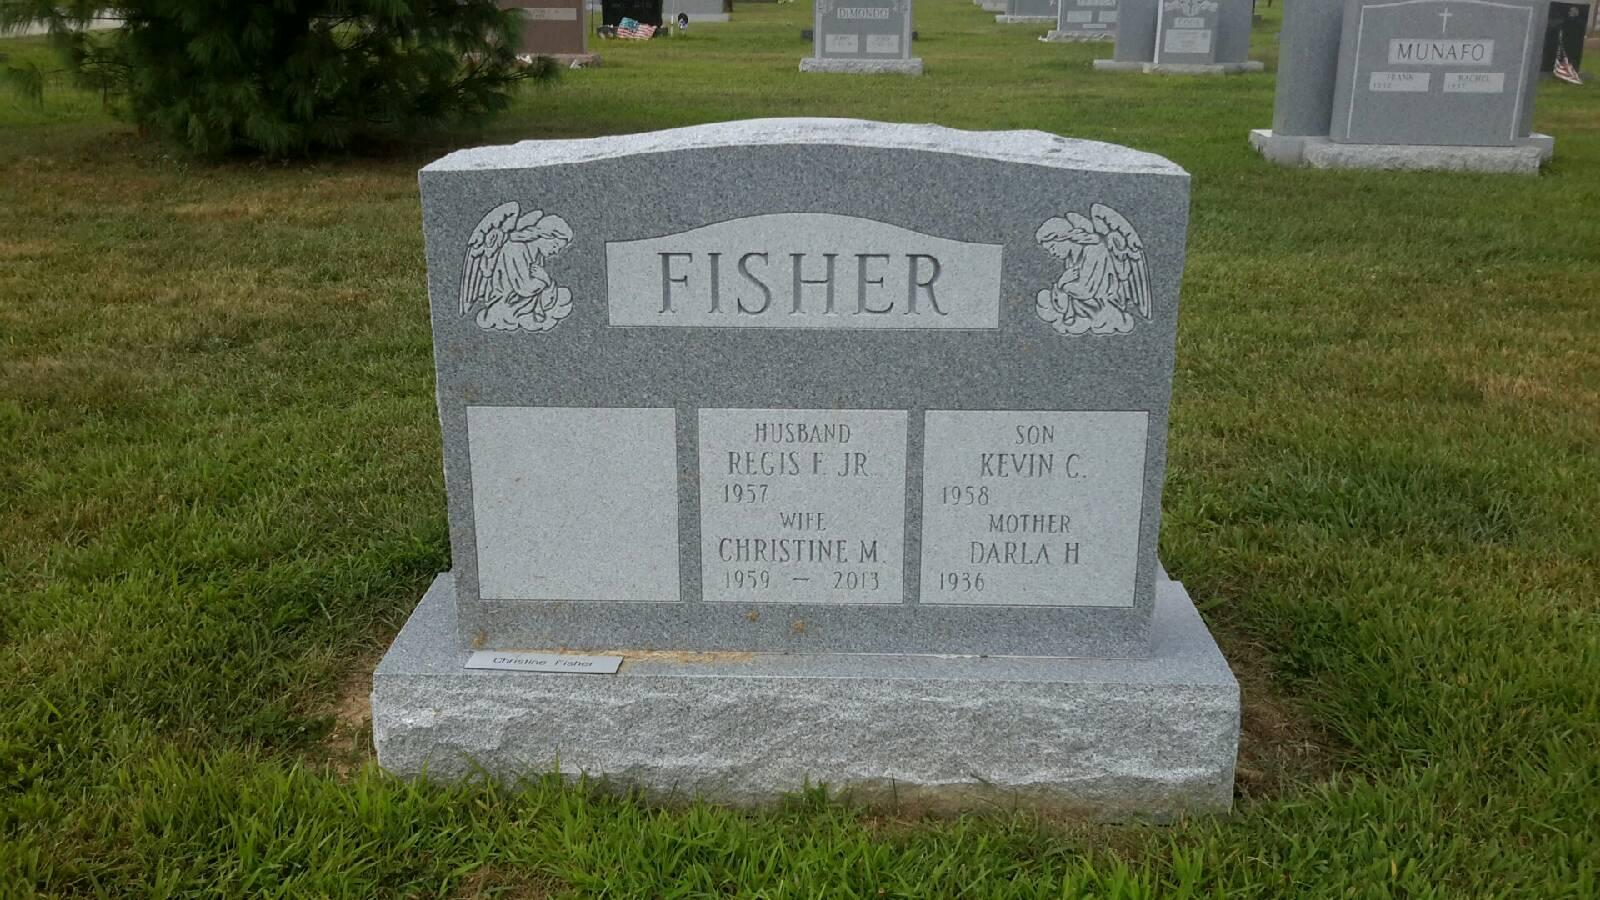upright: (373, 116, 1242, 812)
